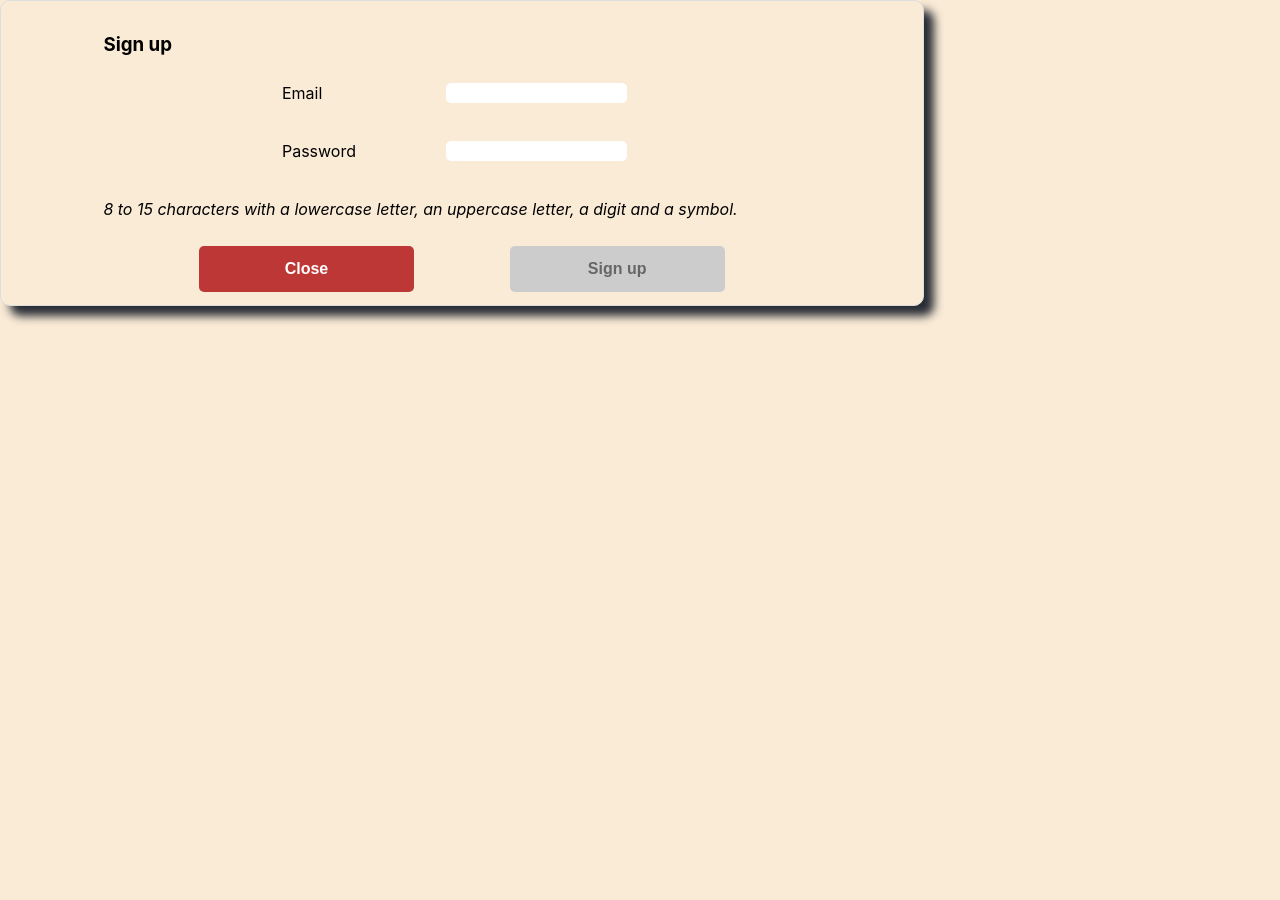
Test: SignUp › shows the error when the account cannot be created
Type "ash@pallet.town" into the field labelled "Email" at (537, 93), box [446, 83, 627, 103]
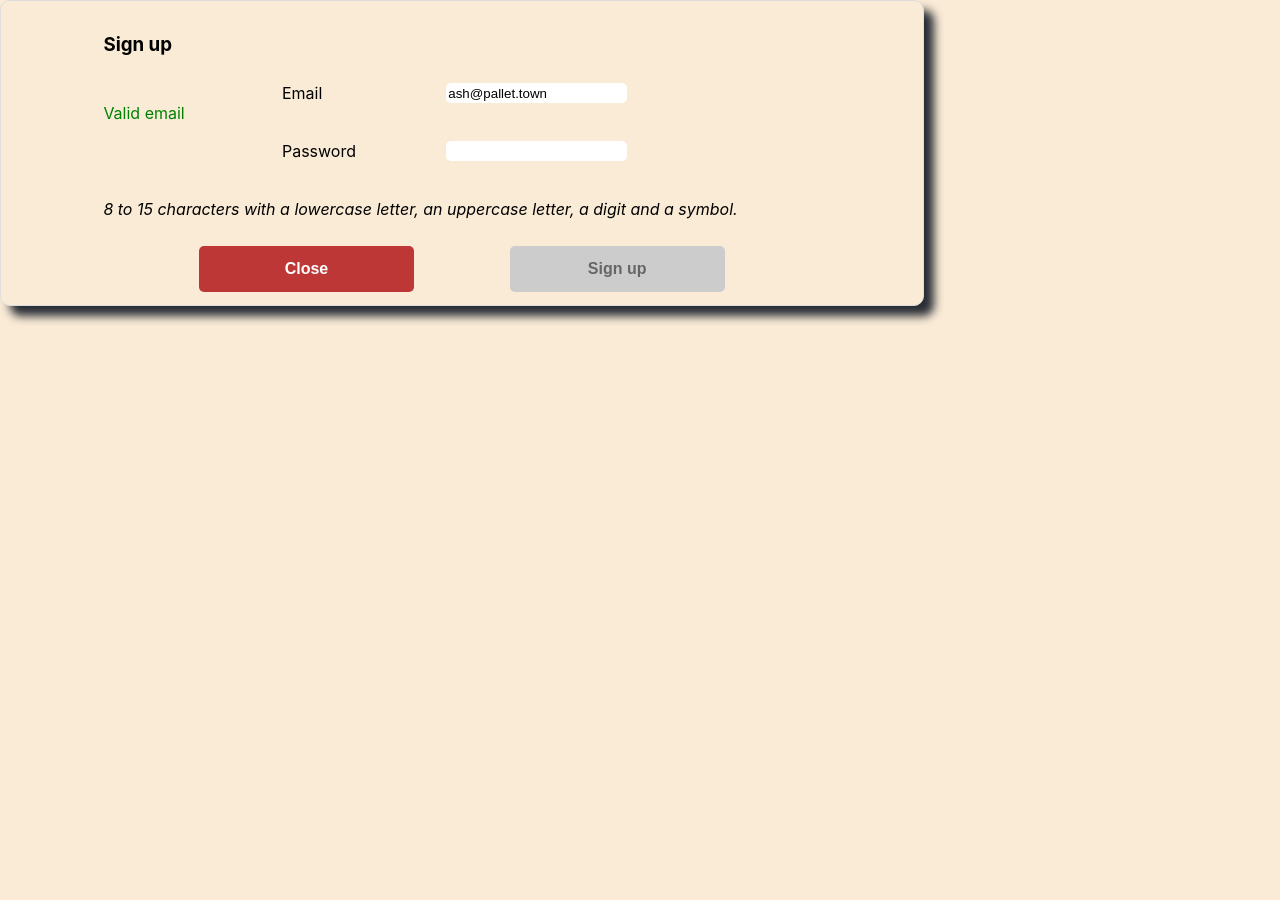
Type "Pikachu#25" into the password field labelled "Password" at (537, 151), box [446, 141, 627, 161]
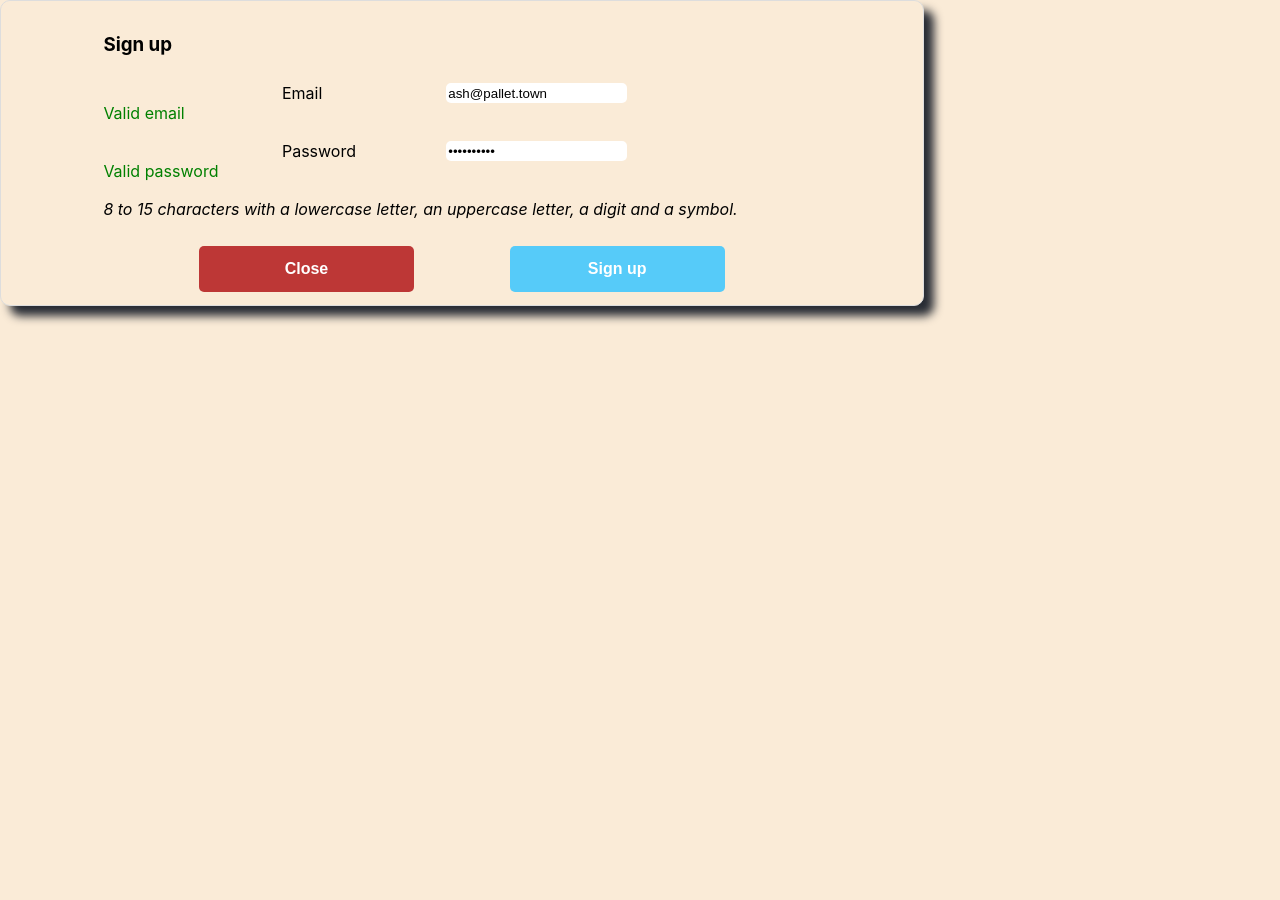
Click the button "Sign up" at (617, 269), box [510, 246, 725, 292]
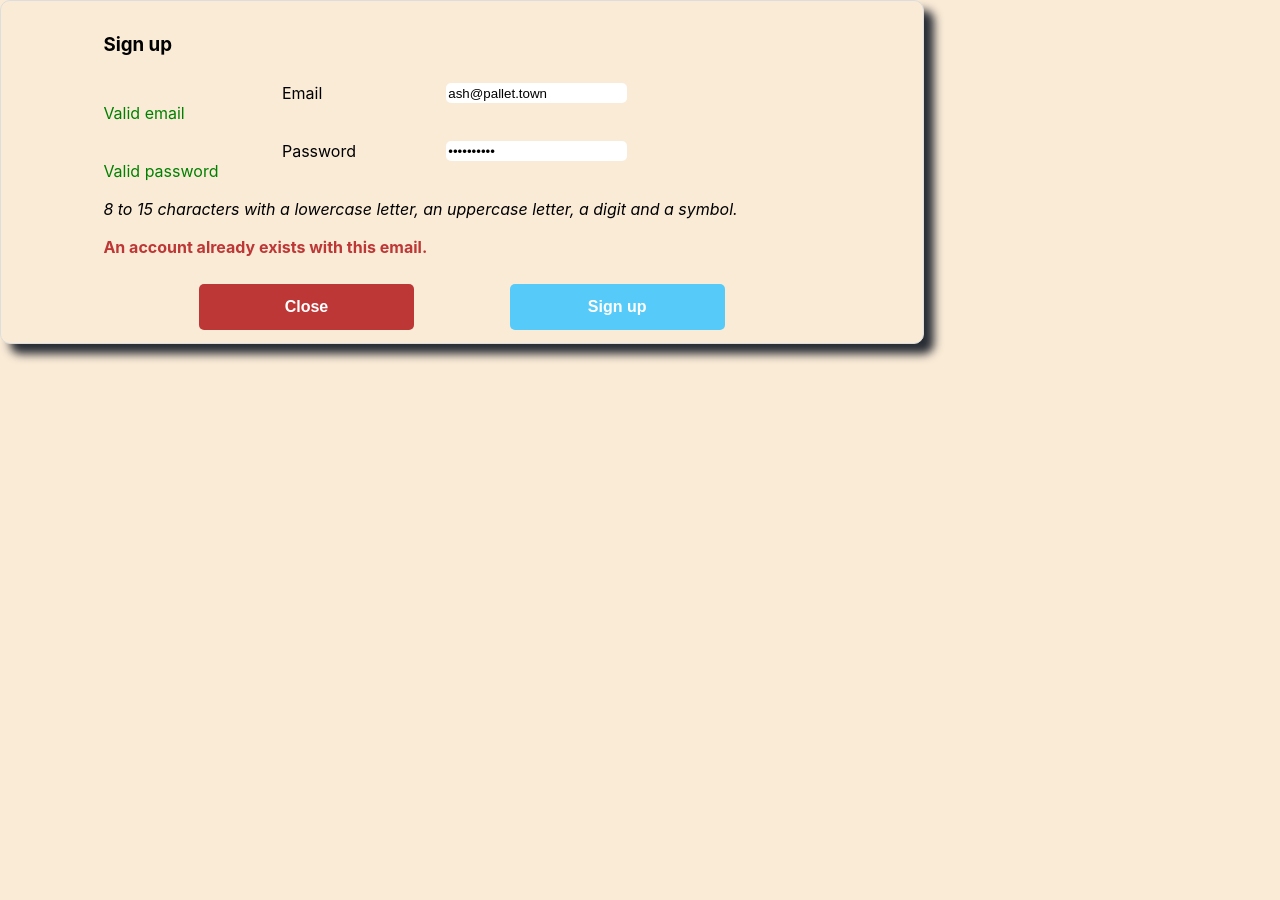
Now the message shows "already exists", box [103, 237, 427, 257]
